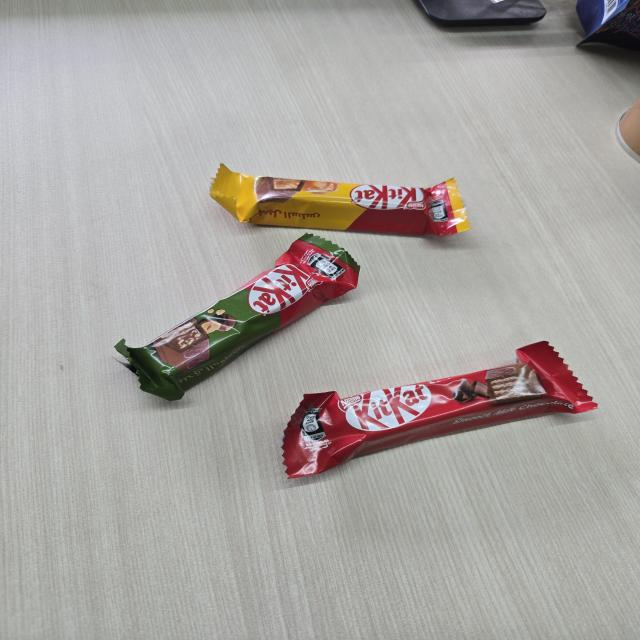chocolate-bar: (280, 338, 600, 488), (113, 230, 373, 408), (206, 160, 479, 246)
